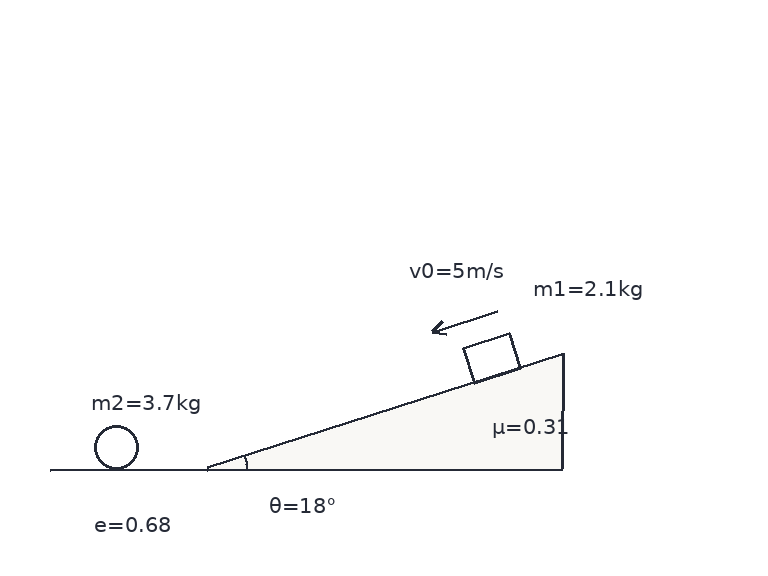ball: (92, 423, 140, 471)
block: (461, 331, 522, 384)
ramp: (205, 352, 564, 471)
